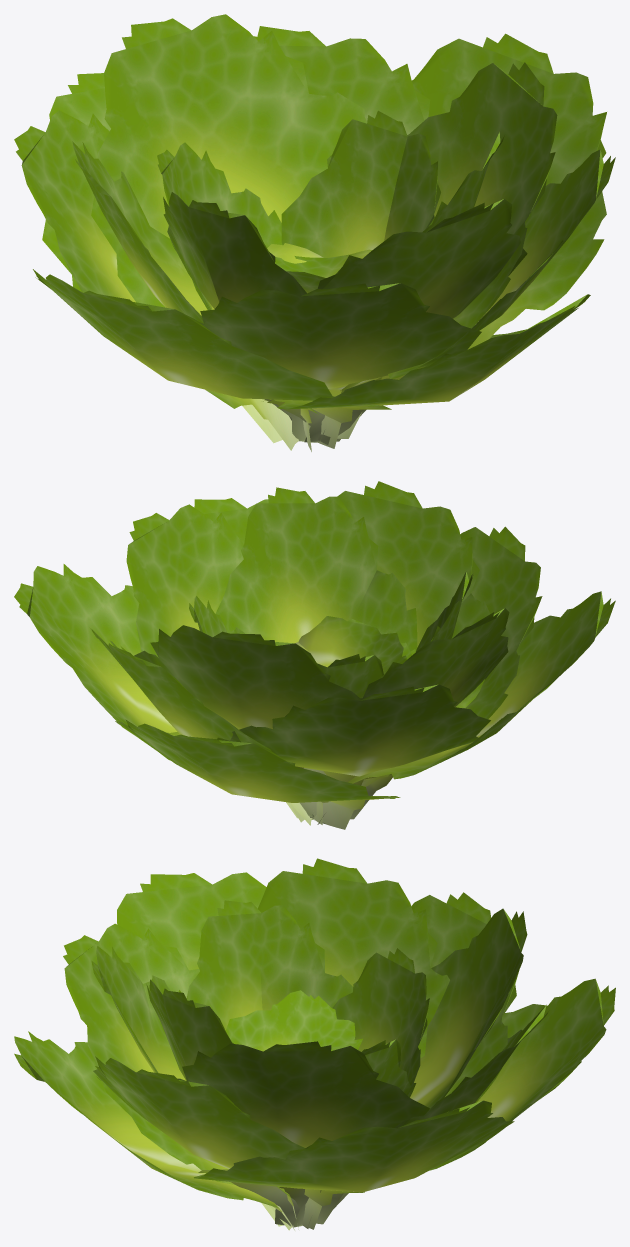
Rendered from Cabbage_Visual.glb.
The picture shows the model from 3 angles, top to bottom: view 1: azimuth 30°, elevation 25°; view 2: azimuth 150°, elevation 25°; view 3: azimuth 270°, elevation 25°; orthographic projection. The views are drawn at different scales.
Visible parts, largest first — view 1: Lattuce; view 2: Lattuce; view 3: Lattuce.
Boxes of the visible parts, bbox=[...] form: Lattuce: bbox=[14, 14, 615, 451]; Lattuce: bbox=[14, 481, 615, 829]; Lattuce: bbox=[14, 858, 615, 1230].
Bounding box in the file's own units: 0.8076 × 0.4274 × 0.8051.
1 material, 1 textured.
